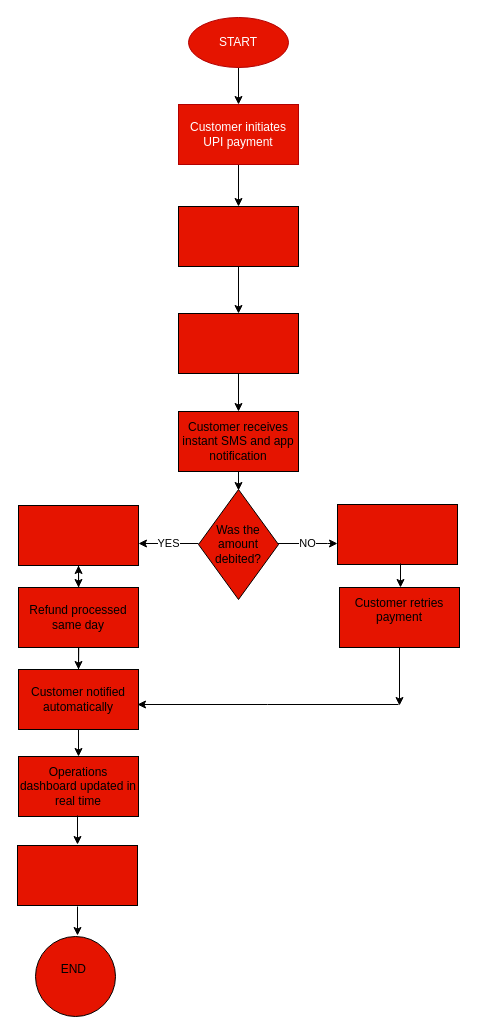
This 477x1034 diagram has some shape labels left out. Here are the shapes that lost their labels. From the top down, the centre of each, then its label:
the point at 238,236: Payment fails
the point at 238,343: System automatically captures failure reason
the point at 78,535: Auto refund triggered
the point at 397,534: Customer offered retry option
the point at 77,875: Daily report auto generated for management
